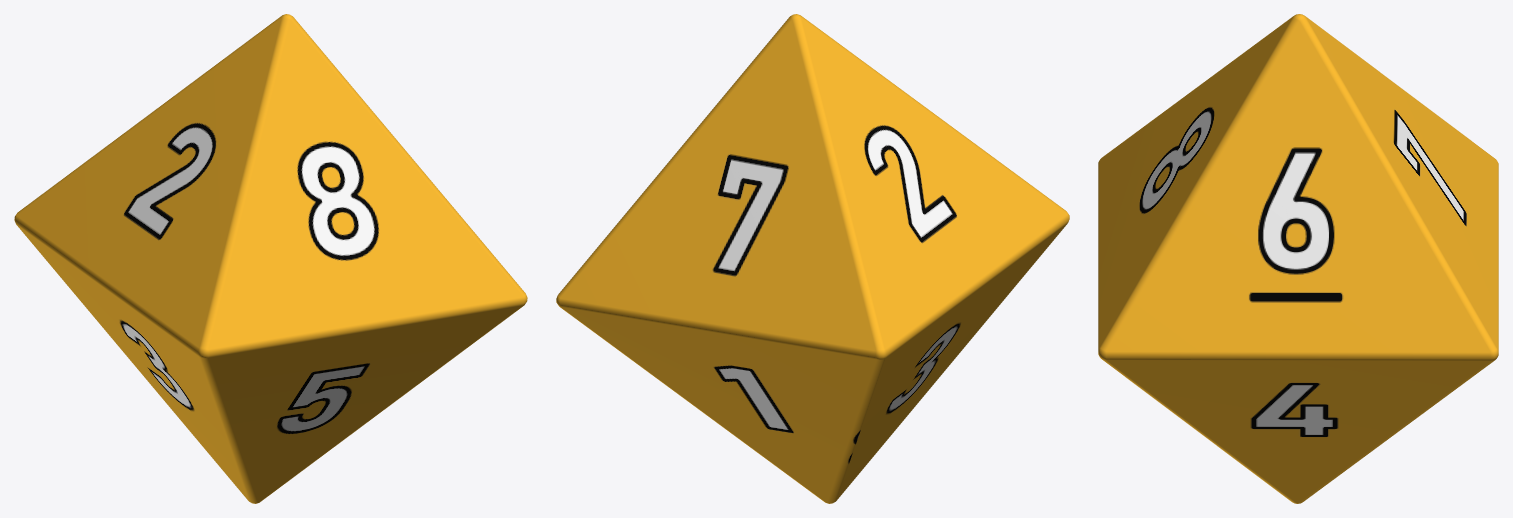
Rendered from lastdice.fbx.
3 views of the same model, side by side, from view 1: azimuth 30°, elevation 25°; view 2: azimuth 150°, elevation 25°; view 3: azimuth 270°, elevation 25° (orthographic). The views are drawn at different scales.
Parts seen in each view (by area): view 1: dice_8; view 2: dice_8; view 3: dice_8.
Boxes of the visible parts, x1,y1,x2,y2 form: dice_8: (14, 14, 527, 503); dice_8: (556, 14, 1069, 503); dice_8: (1098, 14, 1498, 503).
Size of the model in its own units: 198 by 275 by 198.
